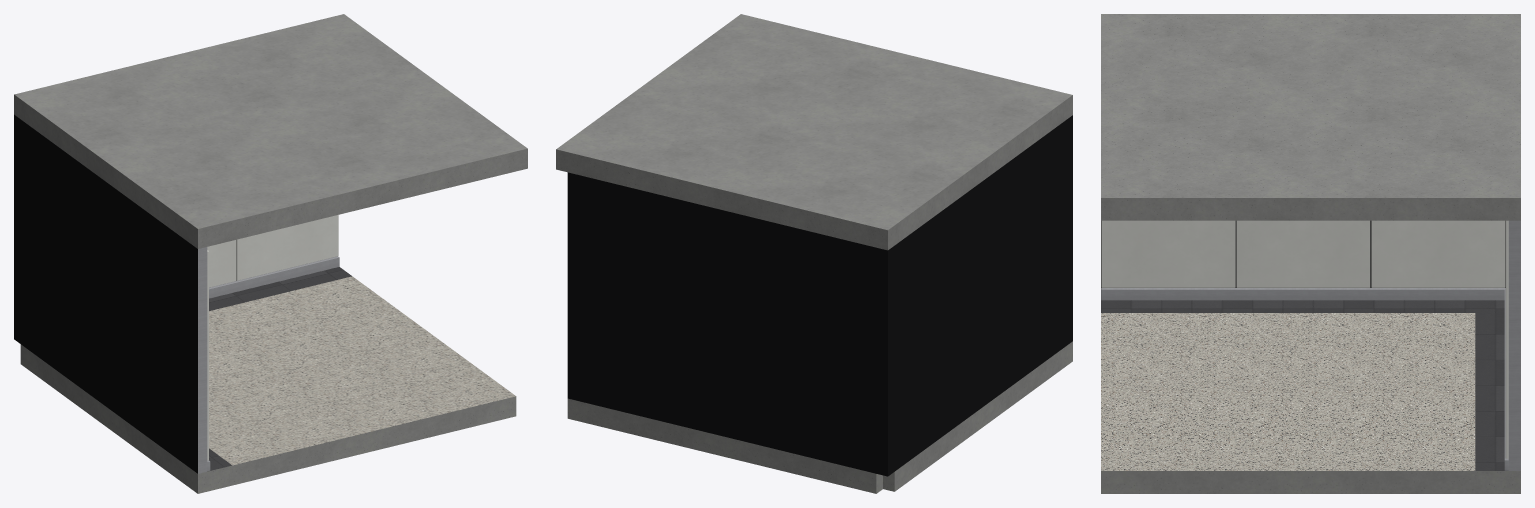
Rendered from gteki_passage_corner_w4.glb.
The picture shows the model from 3 angles, left to right: view 1: azimuth 30°, elevation 25°; view 2: azimuth 150°, elevation 25°; view 3: azimuth 270°, elevation 25°; orthographic projection. The views are drawn at different scales.
Parts seen in each view (by area): view 1: VIS_ceiling, VIS_walls, VIS_floor; view 2: VIS_walls, VIS_ceiling, VIS_floor; view 3: VIS_ceiling, VIS_floor, VIS_walls.
Boxes of the visible parts, x1=… form: VIS_ceiling: x1=14, y1=14, x2=527, y2=248; VIS_walls: x1=14, y1=114, x2=339, y2=473; VIS_floor: x1=20, y1=267, x2=516, y2=493; VIS_walls: x1=567, y1=115, x2=1072, y2=476; VIS_ceiling: x1=556, y1=14, x2=1072, y2=250; VIS_floor: x1=567, y1=341, x2=1072, y2=493; VIS_ceiling: x1=1101, y1=14, x2=1520, y2=220; VIS_floor: x1=1101, y1=300, x2=1520, y2=493; VIS_walls: x1=1101, y1=220, x2=1520, y2=470.
Size of what is drawn, in the model's own units: 4.3 by 3.3 by 4.15.
Materials: 9 (6 with a texture image).
